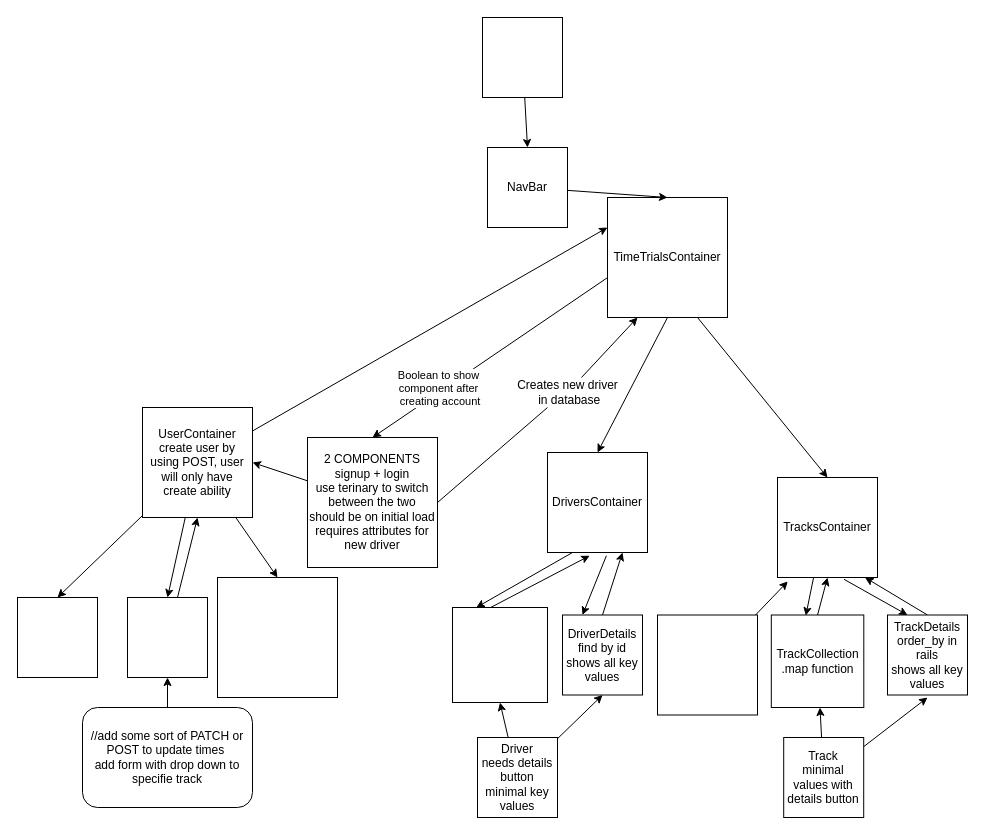
The diagram is 985 pixels wide and 835 high, and some of its shapes have lost their labels. The box of each missing label's shape, as (x1, y1, x2, y2) in pixels:
App.js: (482, 16, 562, 98)
DriverCollection .map function Admin will have DELETE permits: (452, 606, 548, 702)
Leaderboard will have two filter buttons for recent times and all time top times: (216, 576, 338, 698)
TrackForm - Admin: True POST,PATCH, DELETE functions: (656, 614, 758, 715)
user personal time trials: (126, 596, 208, 678)
User Profile shows key values: (16, 596, 98, 678)
